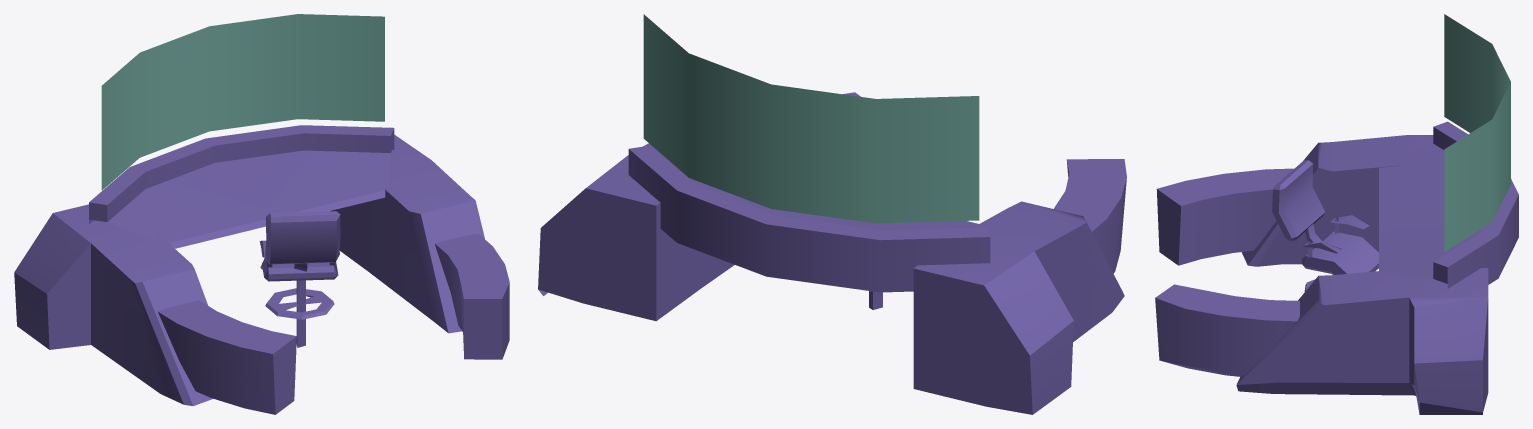
Rendered from P_EscritorioNeftis_LOD0.fbx.
The picture shows the model from 3 angles, left to right: view 1: azimuth 30°, elevation 25°; view 2: azimuth 150°, elevation 25°; view 3: azimuth 270°, elevation 25°; orthographic projection. The views are drawn at different scales.
Parts seen in each view (by area): view 1: Mesa, Pantalla, Silla; view 2: Mesa, Pantalla; view 3: Mesa, Pantalla, Silla.
Boxes of the visible parts, x1,y1,x2,y2 form: Mesa: (14,125,509,414); Pantalla: (101,14,384,190); Silla: (259,211,340,347); Mesa: (538,92,1126,414); Pantalla: (643,14,979,223); Mesa: (1155,121,1518,414); Pantalla: (1444,14,1510,251); Silla: (1272,160,1378,291).
Bounding box in the file's own units: 39.04 × 22.58 × 29.92.
